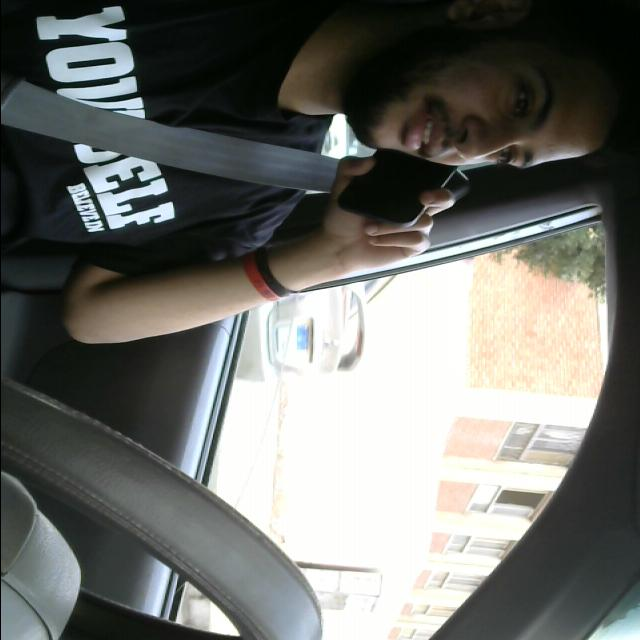mobile use: (329, 108, 464, 226)
